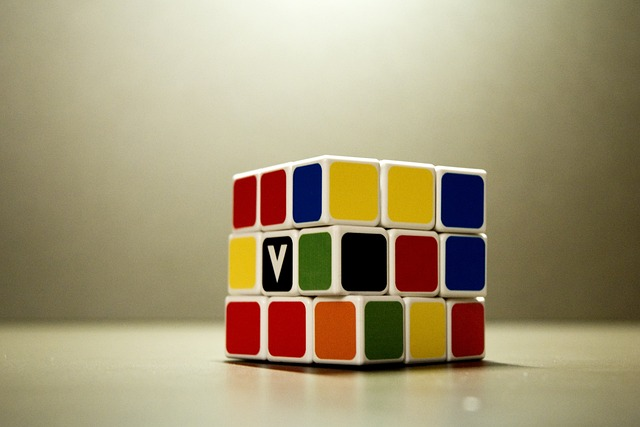cube: (223, 154, 489, 372)
